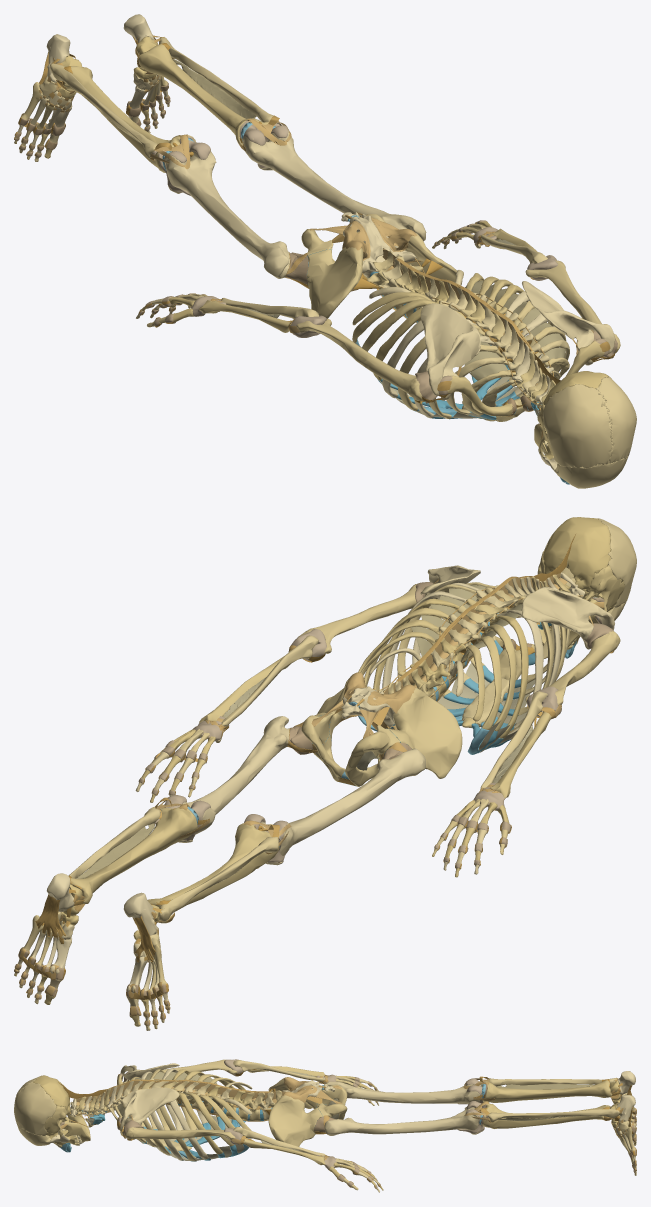
Rendered from skeletal.glb.
The picture shows the model from 3 angles, top to bottom: view 1: azimuth 30°, elevation 25°; view 2: azimuth 150°, elevation 25°; view 3: azimuth 270°, elevation 25°; orthographic projection. The views are drawn at different scales.
Parts seen in each view (by area): view 1: 右侧顶骨, 右侧股骨, 左侧股骨, 右侧肩胛骨, 右侧髋骨, 左侧胫骨, 左侧肩胛骨, 右侧肱骨, 左侧顶骨, 右侧胫骨, 左侧肱骨, 右侧腓骨 (+16 smaller); view 2: 右侧髋骨, 右侧股骨, 枕骨, 左侧胫骨, 右侧肩胛骨, 左侧股骨, 右侧胫骨, 左侧髋骨, 左侧肱骨, 右侧顶骨, 右侧腓骨, 右侧肱骨 (+19 smaller); view 3: 左侧髋骨, 左侧股骨, 右侧股骨, 左侧顶骨, 右侧胫骨, 左侧肩胛骨, 左侧胫骨, 左侧肱骨, 左侧腓骨, 棘间韧带, 右侧腓骨, 枕骨 (+31 smaller).
Boxes of the visible parts, bbox=[...] form: 右侧顶骨: bbox=[543, 384, 612, 468]; 右侧股骨: bbox=[164, 149, 289, 278]; 左侧股骨: bbox=[243, 127, 426, 241]; 右侧肩胛骨: bbox=[420, 303, 480, 400]; 右侧髋骨: bbox=[301, 229, 363, 318]; 左侧胫骨: bbox=[138, 44, 268, 145]; 左侧肩胛骨: bbox=[522, 281, 615, 365]; 右侧肱骨: bbox=[296, 318, 423, 401]; 左侧顶骨: bbox=[596, 376, 636, 463]; 右侧胫骨: bbox=[63, 66, 195, 172]; 左侧肱骨: bbox=[525, 260, 620, 352]; 右侧腓骨: bbox=[50, 63, 157, 159]; 右侧髋骨: bbox=[345, 688, 462, 786]; 右侧股骨: bbox=[259, 748, 425, 855]; 枕骨: bbox=[543, 517, 611, 594]; 左侧胫骨: bbox=[70, 807, 197, 903]; 右侧肩胛骨: bbox=[521, 587, 614, 649]; 左侧股骨: bbox=[182, 716, 289, 834]; 右侧胫骨: bbox=[147, 823, 279, 923]; 左侧髋骨: bbox=[301, 674, 353, 781]; 左侧肱骨: bbox=[298, 584, 416, 654]; 右侧顶骨: bbox=[598, 518, 636, 607]; 右侧腓骨: bbox=[158, 837, 278, 921]; 右侧肱骨: bbox=[525, 631, 620, 704]; 左侧髋骨: bbox=[268, 1095, 347, 1146]; 左侧股骨: bbox=[324, 1107, 478, 1135]; 右侧股骨: bbox=[326, 1081, 480, 1103]; 左侧顶骨: bbox=[14, 1082, 56, 1135]; 右侧胫骨: bbox=[482, 1080, 612, 1102]; 左侧肩胛骨: bbox=[119, 1087, 179, 1131]; 左侧胫骨: bbox=[482, 1102, 610, 1128]; 左侧肱骨: bbox=[125, 1127, 235, 1140]; 左侧腓骨: bbox=[487, 1108, 619, 1122]; 棘间韧带: bbox=[76, 1080, 285, 1102]; 右侧腓骨: bbox=[487, 1077, 618, 1086]; 枕骨: bbox=[33, 1075, 70, 1114].
Size of the model in its own units: 0.9863 by 0.3683 by 2.5.
